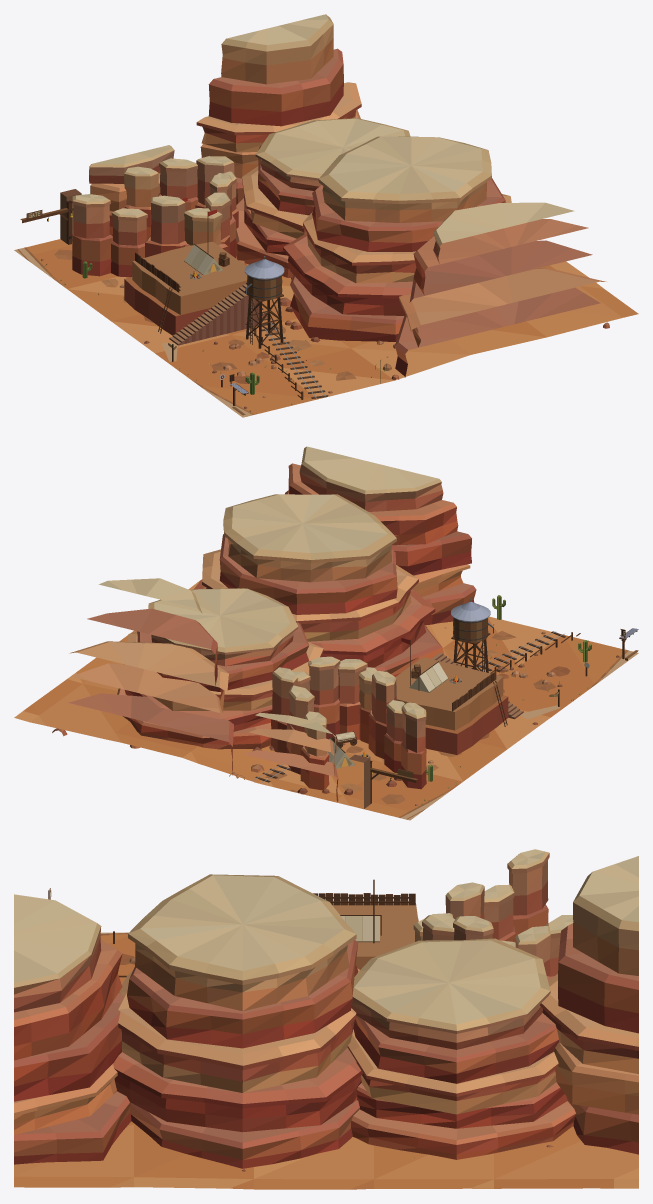
3 renders of one model, top to bottom at view 1: azimuth 30°, elevation 25°; view 2: azimuth 150°, elevation 25°; view 3: azimuth 270°, elevation 25°, orthographic. The views are drawn at different scales.
Visible parts, largest first — view 1: baked (×2); view 2: baked (×2); view 3: baked.
Boxes of the visible parts, x1,y1,x2,y2 form: baked (×2): (14,14,638,417); baked (×2): (14,446,638,820); baked: (14,849,638,1189).
Size of the model in its own units: 62.5 by 24.16 by 62.5.
